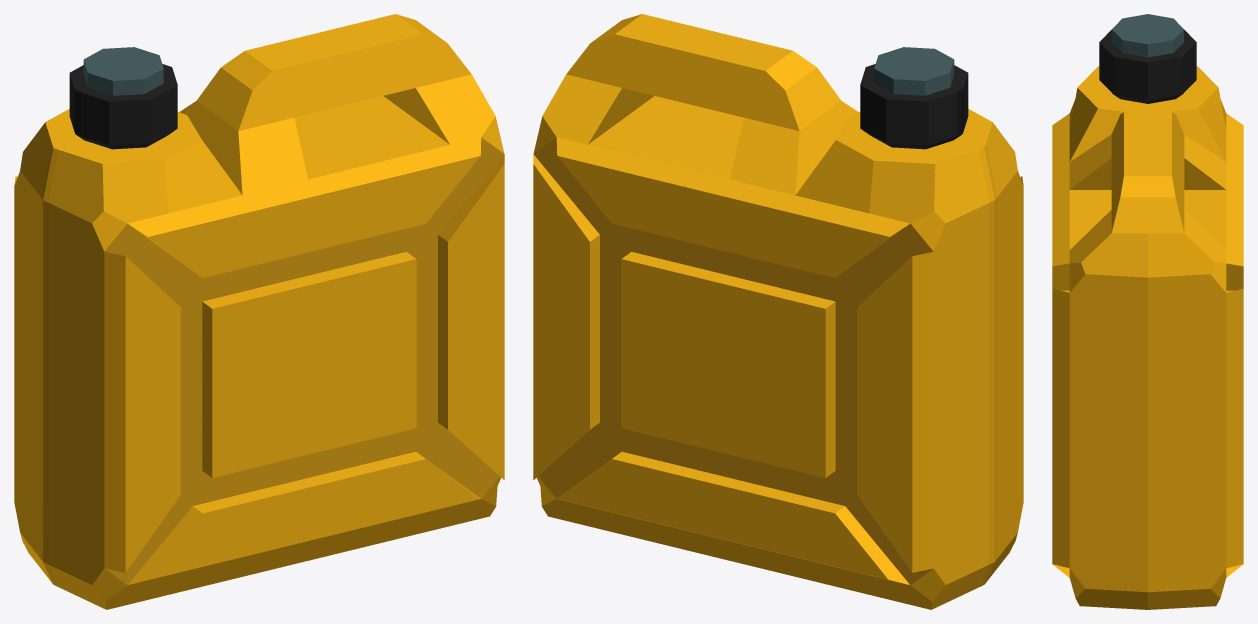
File: Gasoline.fbx
3 views of the same model, side by side, from view 1: azimuth 30°, elevation 25°; view 2: azimuth 150°, elevation 25°; view 3: azimuth 270°, elevation 25° (orthographic). The views are drawn at different scales.
Parts seen in each view (by area): view 1: Cube.003; view 2: Cube.003; view 3: Cube.003.
Part boxes in pixels (box(x1,y1,x2,y2)): Cube.003: box(14, 14, 504, 609); Cube.003: box(533, 14, 1023, 609); Cube.003: box(1052, 14, 1243, 609).
Size of the model in its own units: 79.59 by 91.61 by 35.51.
